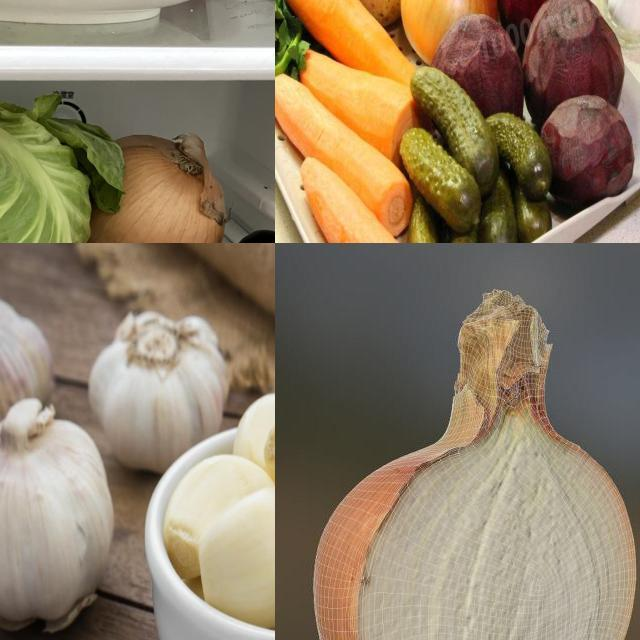beet: (528, 1, 622, 109), (543, 98, 630, 198), (438, 13, 518, 101)
cabbage: (1, 90, 131, 244)
carrot: (347, 77, 410, 152), (276, 85, 327, 150), (285, 1, 354, 40), (346, 215, 422, 244)
cucumber: (420, 74, 482, 160), (407, 146, 467, 210), (502, 120, 542, 185)
garlic: (1, 404, 113, 622), (92, 313, 224, 469), (164, 463, 272, 573), (201, 487, 276, 629), (1, 297, 57, 462)
onion: (308, 288, 640, 640), (73, 131, 230, 244), (407, 1, 498, 44)
